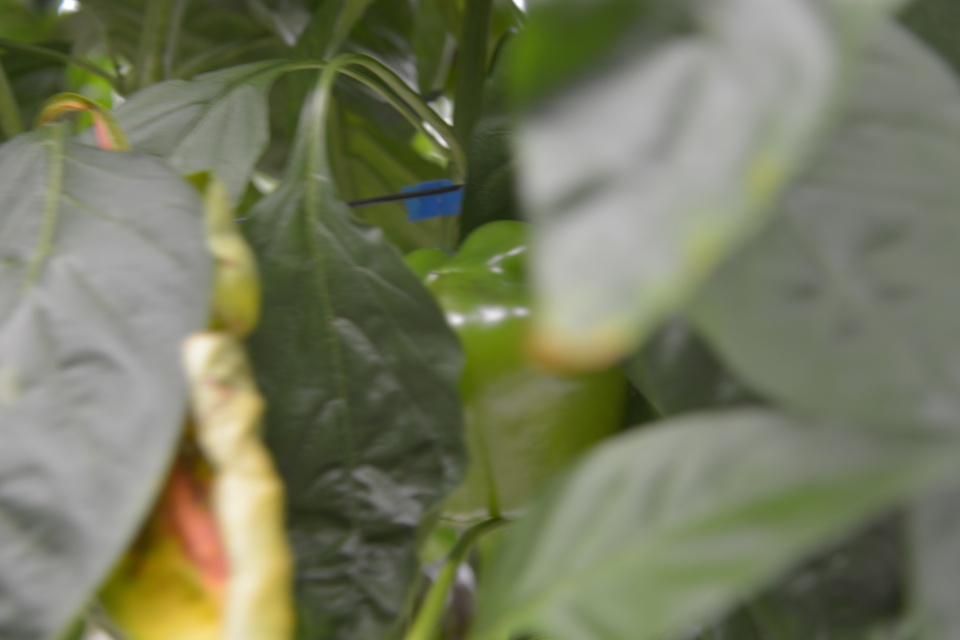fruit: (399, 218, 628, 524)
